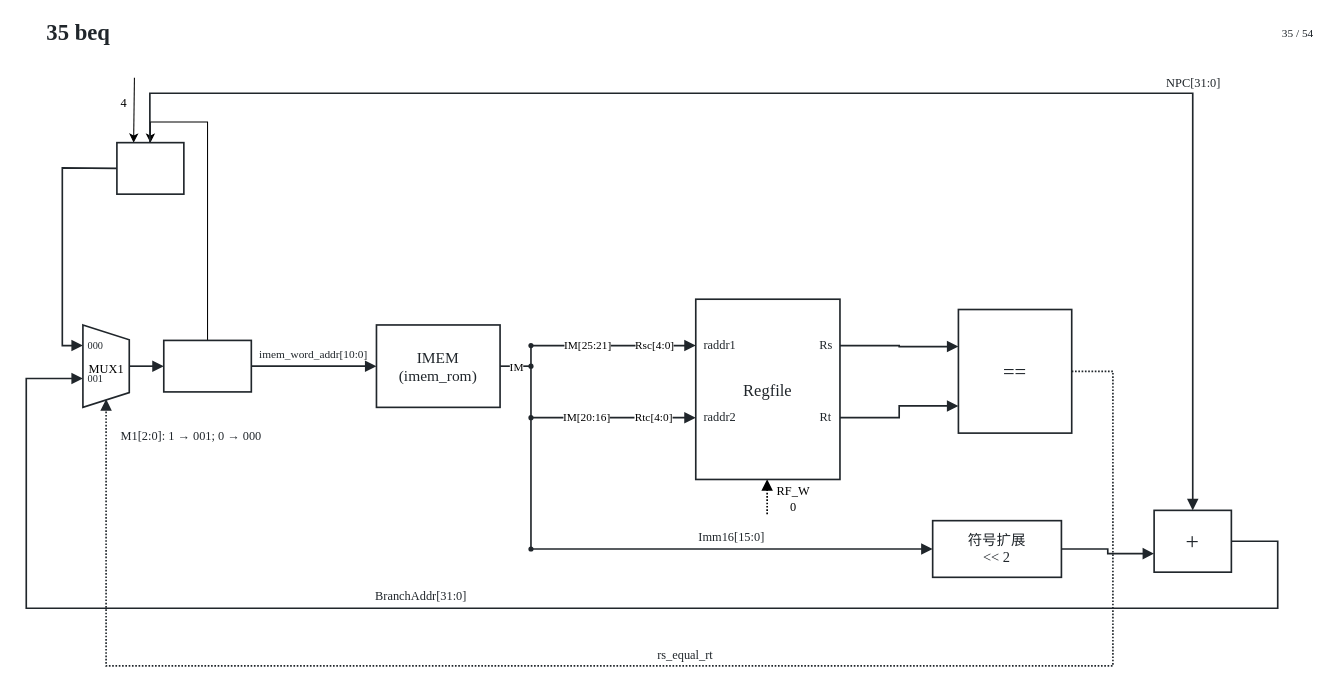
This 1332x694 diagram has some shape labels left out. The centre of each missing label's shape, as x and y in pixels:
"Add" goes at point (150, 167).
"PC" goes at point (207, 365).
